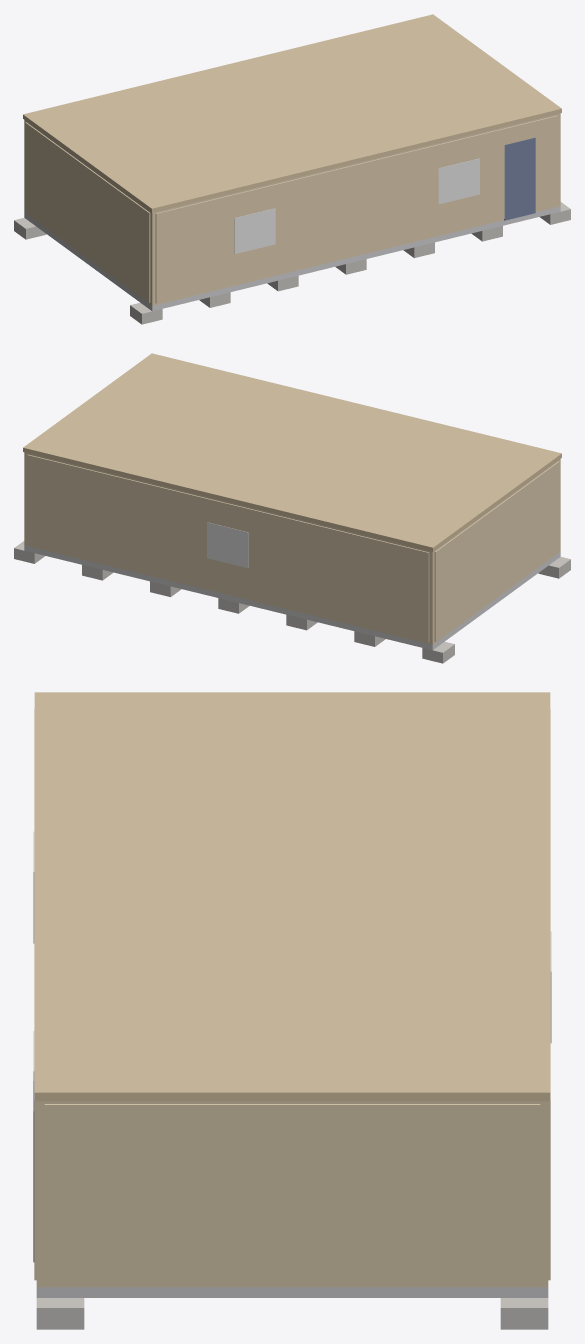
Rendered from Studio-40-Base-LightBrownSand-LOD0.glb.
The picture shows the model from 3 angles, top to bottom: view 1: azimuth 30°, elevation 25°; view 2: azimuth 150°, elevation 25°; view 3: azimuth 270°, elevation 25°; orthographic projection. The views are drawn at different scales.
Parts seen in each view (by area): view 1: RoofMain, ExteriorPanelsStandard, BaseFrame, WindowsStandard, ExteriorShell, FoundationBlocks, EntryDoor; view 2: RoofMain, ExteriorPanelsStandard, BaseFrame, ExteriorShell, FoundationBlocks, WindowsStandard; view 3: RoofMain, ExteriorPanelsStandard, ExteriorShell, BaseFrame, FoundationBlocks.
Part boxes in pixels (x1,y1,x2,y2): RoofMain: (23, 14, 561, 212); ExteriorPanelsStandard: (25, 115, 557, 303); BaseFrame: (24, 206, 560, 311); WindowsStandard: (234, 158, 479, 254); ExteriorShell: (24, 113, 560, 305); FoundationBlocks: (14, 202, 570, 324); EntryDoor: (504, 137, 535, 220); RoofMain: (23, 353, 561, 551); ExteriorPanelsStandard: (27, 454, 559, 642); BaseFrame: (24, 545, 560, 650); ExteriorShell: (24, 452, 560, 644); FoundationBlocks: (14, 541, 570, 663); WindowsStandard: (207, 522, 248, 568); RoofMain: (34, 692, 550, 1101); ExteriorPanelsStandard: (34, 709, 550, 1284); ExteriorShell: (36, 1101, 548, 1287); BaseFrame: (36, 1287, 548, 1297); FoundationBlocks: (36, 1298, 548, 1329).
Size of the model in its own units: 12.49 by 3.17 by 6.53.
